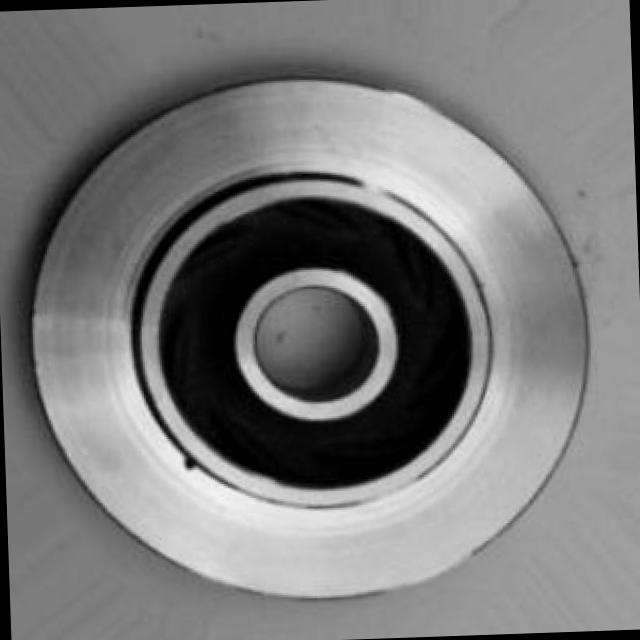Defect: (172, 450, 198, 482)
